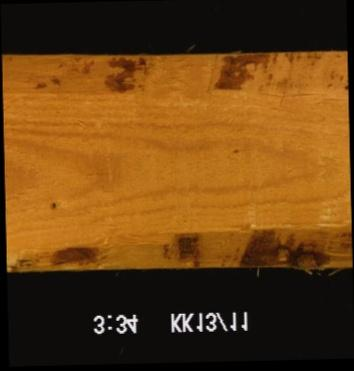small_knot: (48, 199, 55, 211)
wave: (1, 51, 346, 102), (5, 225, 350, 269)
